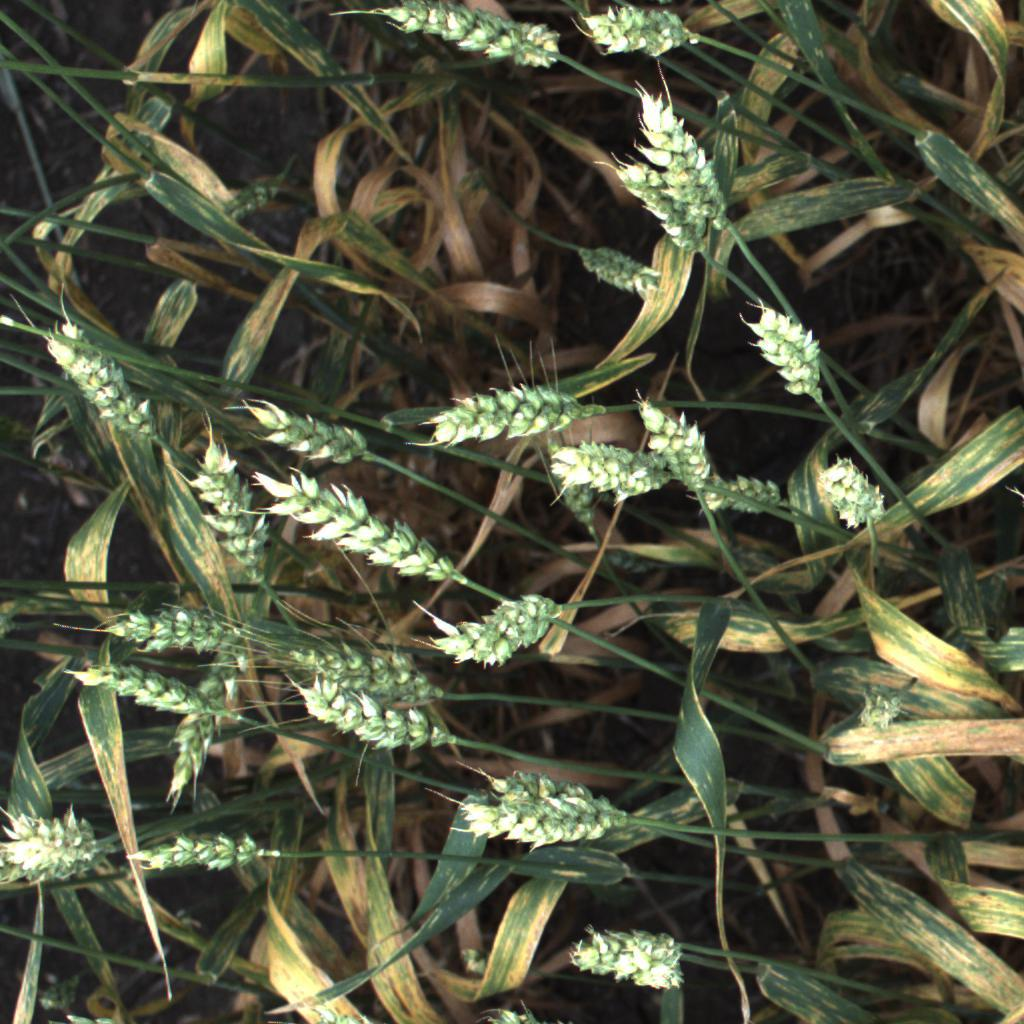0-0: (248, 463, 474, 592), (31, 301, 171, 460), (154, 626, 261, 810), (50, 649, 245, 740), (635, 70, 739, 239), (184, 418, 282, 597), (285, 666, 467, 760), (277, 633, 454, 724), (367, 0, 578, 76), (421, 371, 612, 452), (452, 776, 636, 854), (522, 421, 675, 514), (595, 146, 718, 259), (80, 595, 261, 671), (734, 289, 844, 409), (467, 755, 638, 831), (549, 916, 702, 999), (424, 582, 553, 677), (620, 382, 718, 494), (237, 393, 380, 469), (122, 819, 278, 883), (573, 226, 671, 311), (579, 0, 712, 62), (651, 402, 727, 502), (807, 449, 899, 531), (689, 461, 793, 529), (0, 796, 107, 860), (0, 831, 117, 887), (286, 991, 395, 1024), (454, 1000, 583, 1024), (855, 687, 908, 740)
